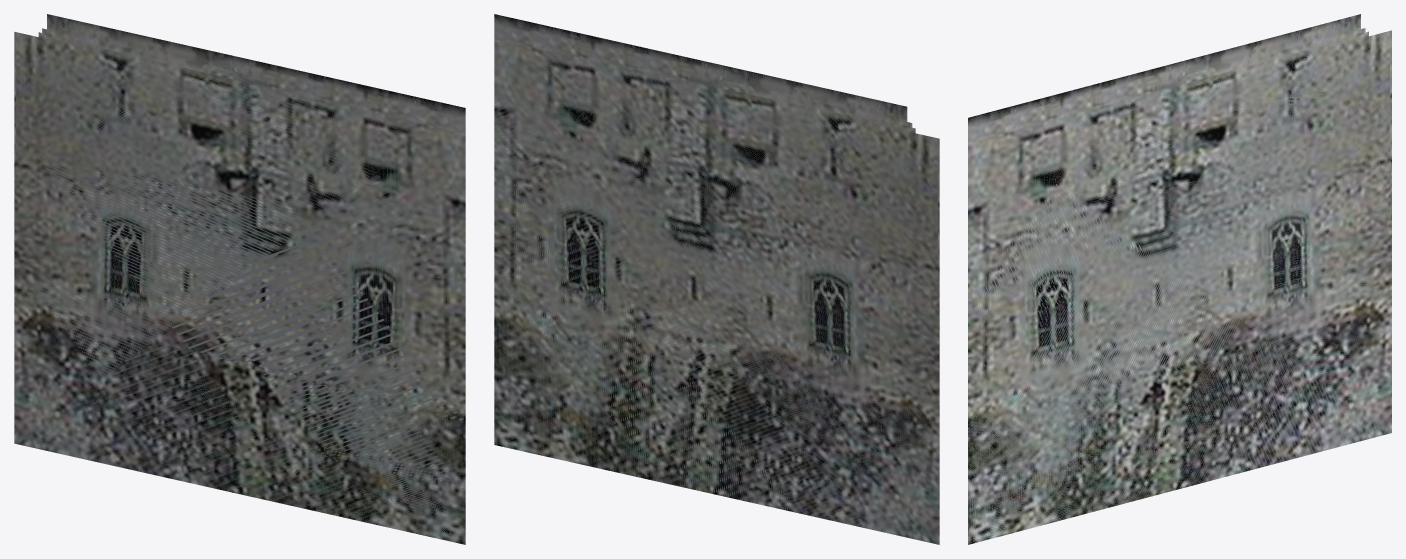
The model's file is 西庸城堡221.dae.
3 renders of one model, left to right at view 1: azimuth 30°, elevation 25°; view 2: azimuth 210°, elevation 25°; view 3: azimuth 270°, elevation 25°, orthographic. The views are drawn at different scales.
Visible parts, largest first — view 1: SketchUp; view 2: SketchUp; view 3: SketchUp.
Boxes of the visible parts, box(x1,y1,x2,y2) form: SketchUp: box(14, 14, 465, 544); SketchUp: box(494, 14, 939, 544); SketchUp: box(968, 14, 1391, 544).
Size of the model in its own units: 332 by 531 by 591.
2 materials, 1 textured.
